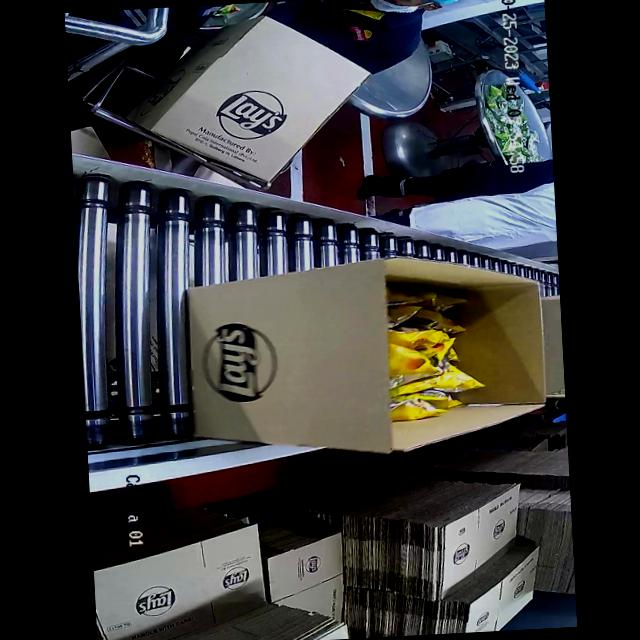salted: (359, 273, 511, 422)
